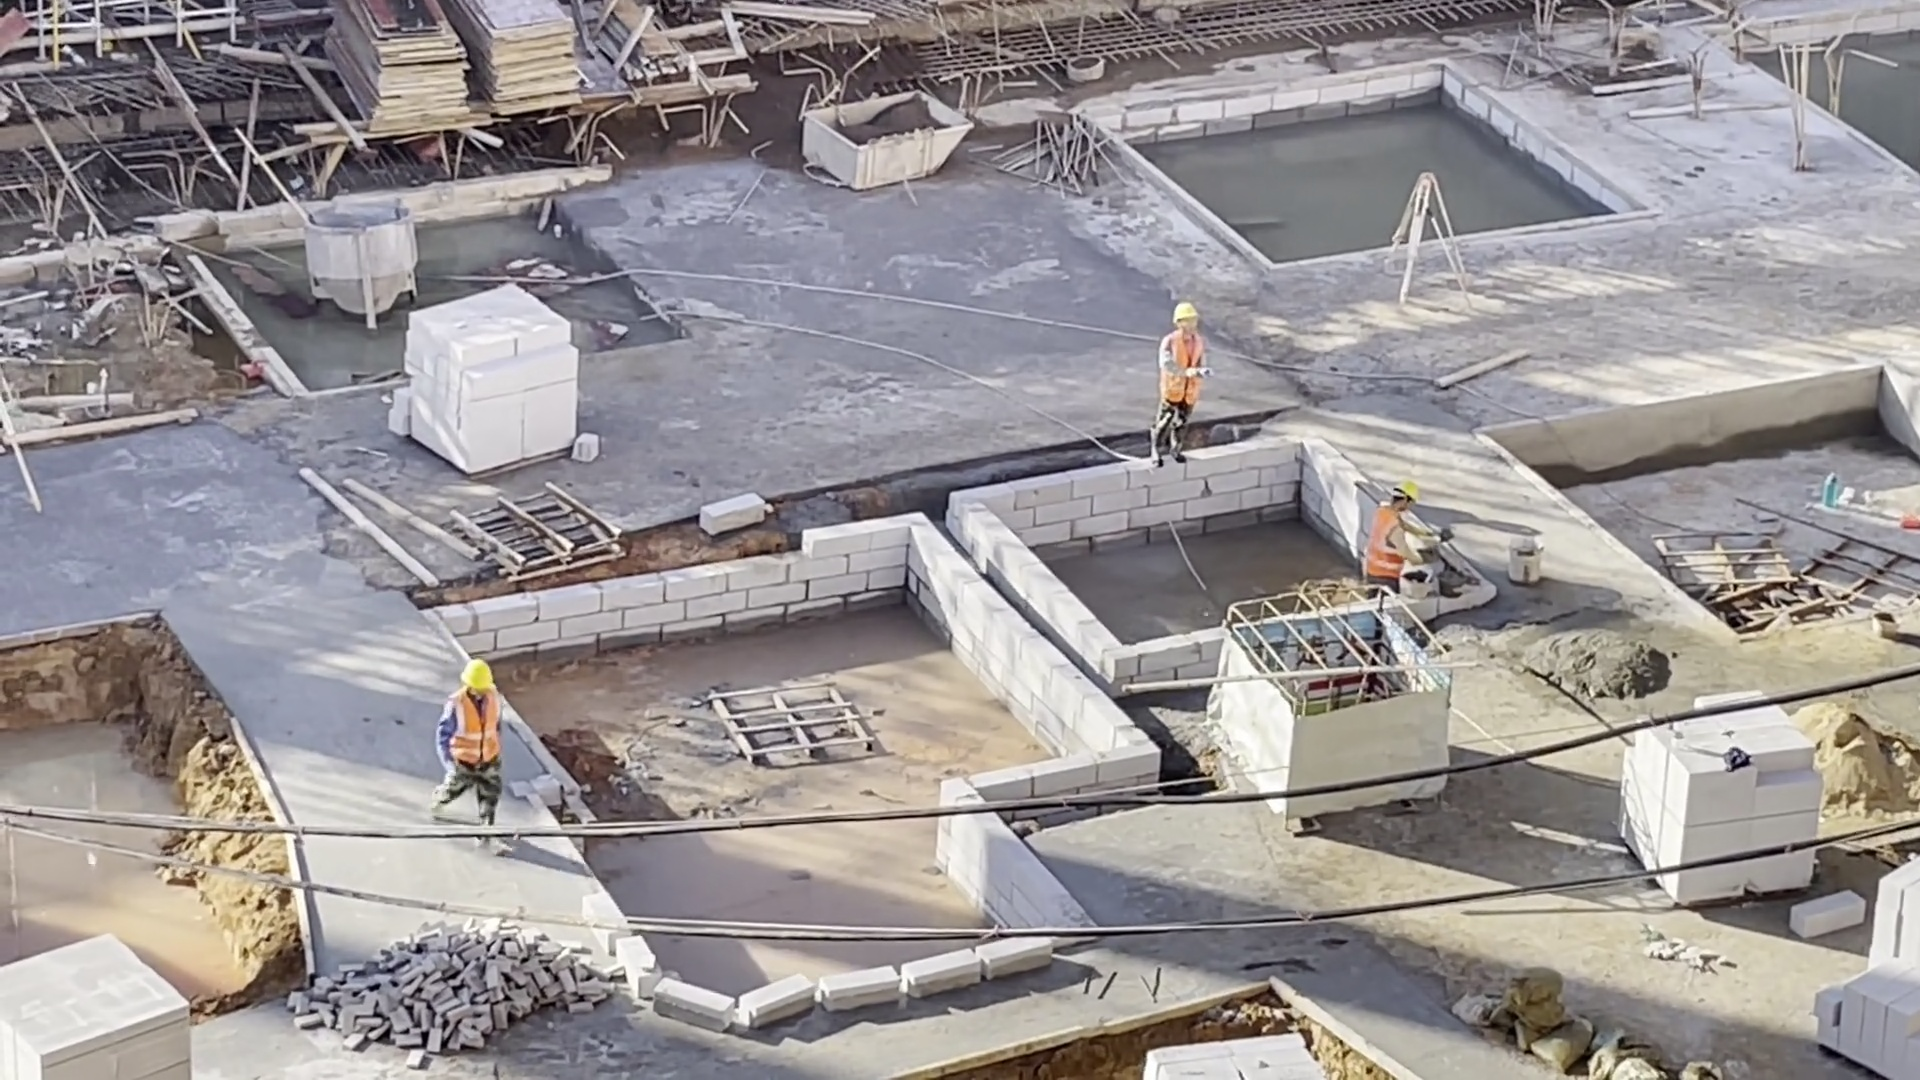board: (317, 1, 478, 137), (448, 4, 591, 120)
brick: (383, 282, 595, 474), (4, 937, 194, 1080), (1805, 854, 1920, 1075), (1610, 741, 1827, 837), (1127, 1024, 1322, 1080)
helmet: (458, 657, 498, 692), (1387, 480, 1423, 504), (1171, 304, 1201, 322)
hopper: (800, 85, 978, 193), (308, 193, 419, 331)
person: (425, 658, 528, 861), (1155, 302, 1210, 471), (1362, 480, 1439, 595)
vest: (448, 686, 502, 766), (1159, 331, 1207, 408), (1364, 508, 1408, 580)
